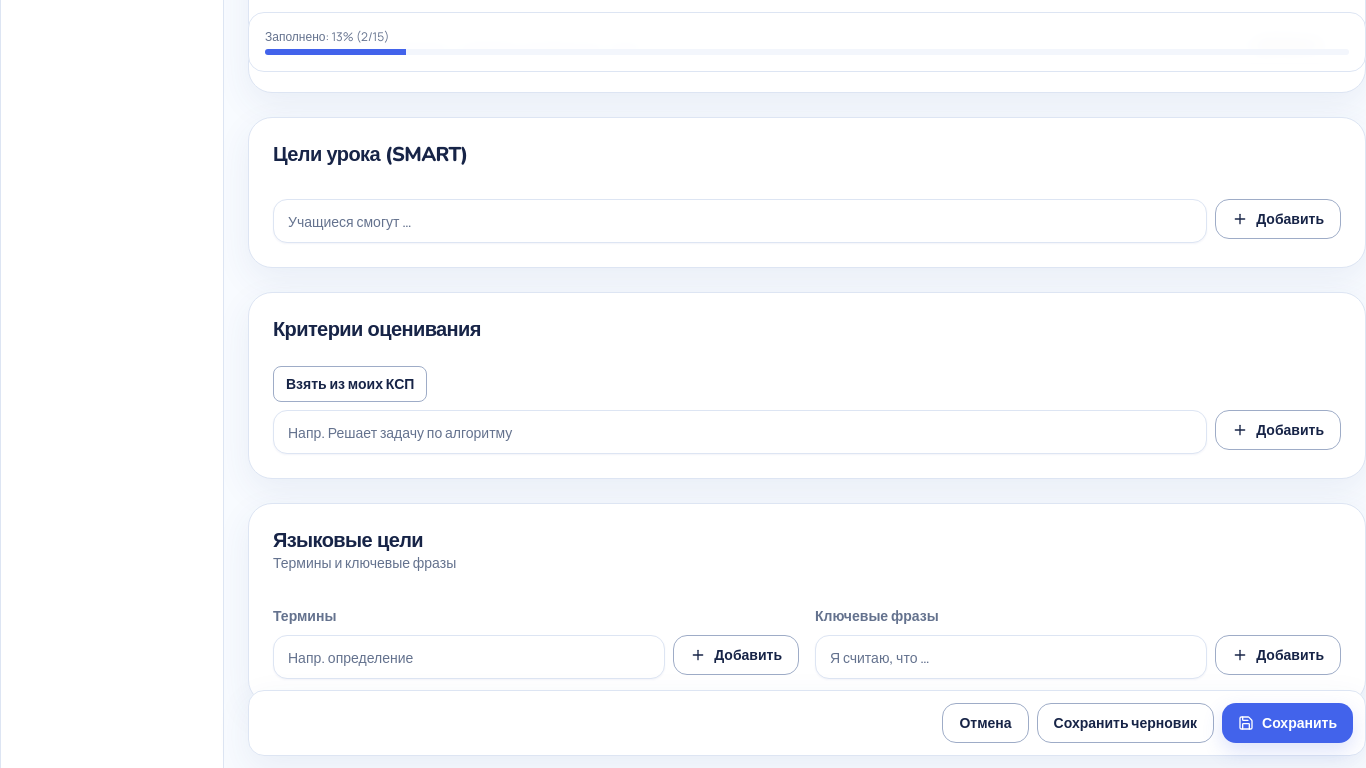
it: copies a criterion from an owned plan and retains visible provenance
(page scrolled)
What coordinates should you click on to do the following:
click the button "Взять из моих КСП"
I would click on:
 (350, 384)
Its box is [273, 366, 427, 402].
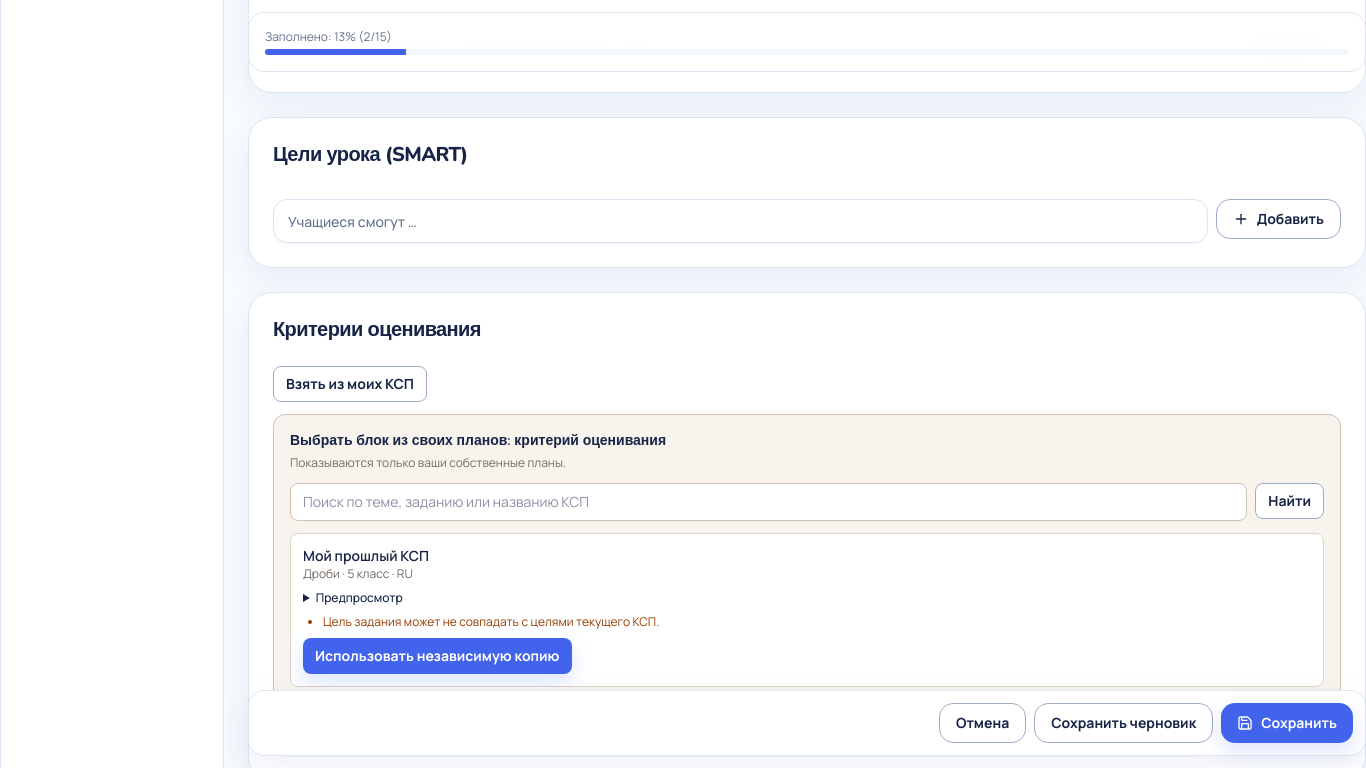
Check: the element "Выбрать блок из своих планов: критерий оценивания" is shown, box [273, 414, 1341, 704]
What coordinates should you click on to do the following:
click the button "Использовать независимую копию"
I would click on:
 (437, 656)
Its box is [303, 638, 572, 674].
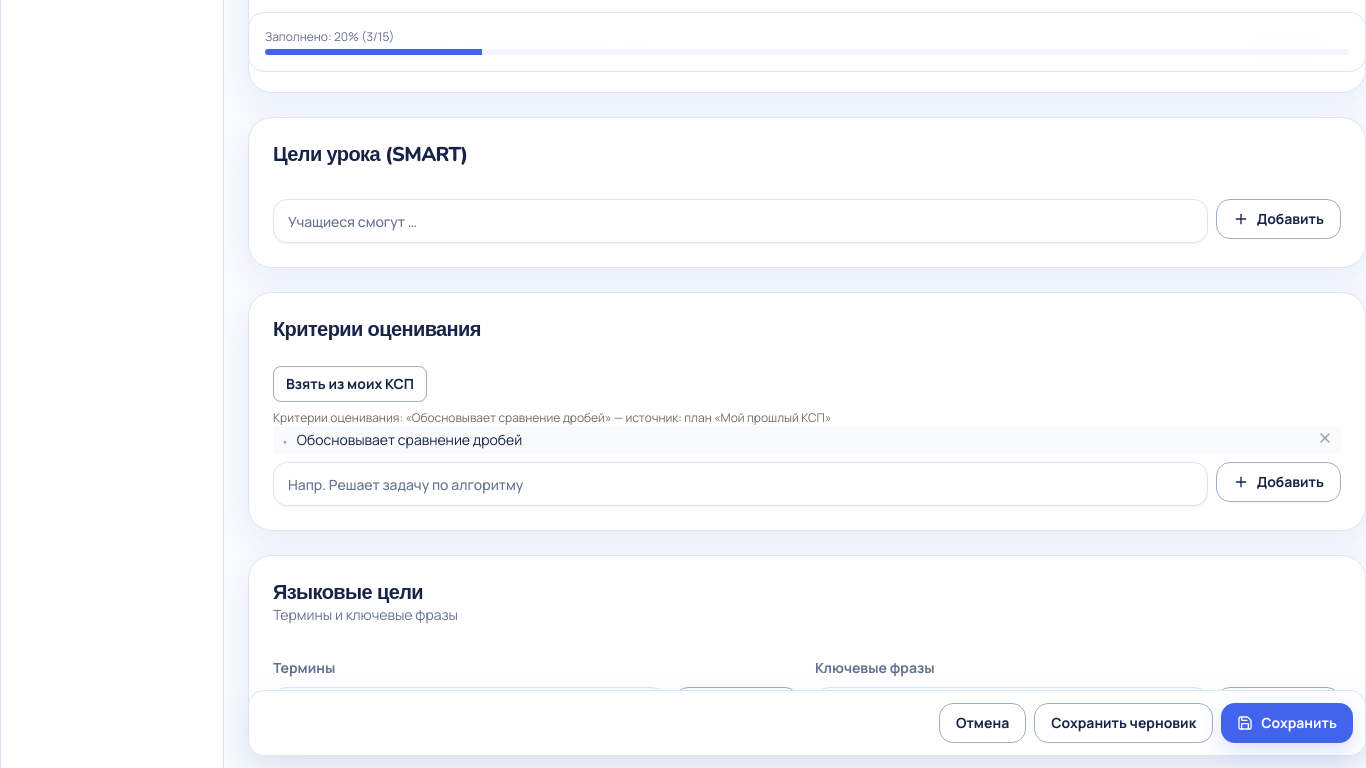
Check: the text "источник: план «Мой прошлый КСП»" is shown, box [273, 409, 831, 426]
Check: the list item "Обосновывает сравнение дробей" is shown, box [297, 430, 522, 449]
